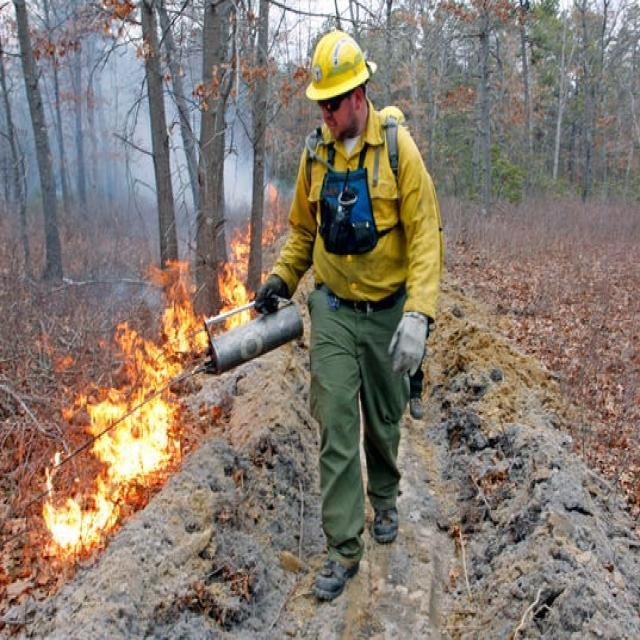Fire: (72, 360, 186, 502), (42, 448, 142, 567), (142, 256, 228, 376), (106, 327, 188, 410), (226, 212, 255, 336), (260, 175, 286, 249)
